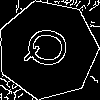Q: (23, 24, 79, 72)
